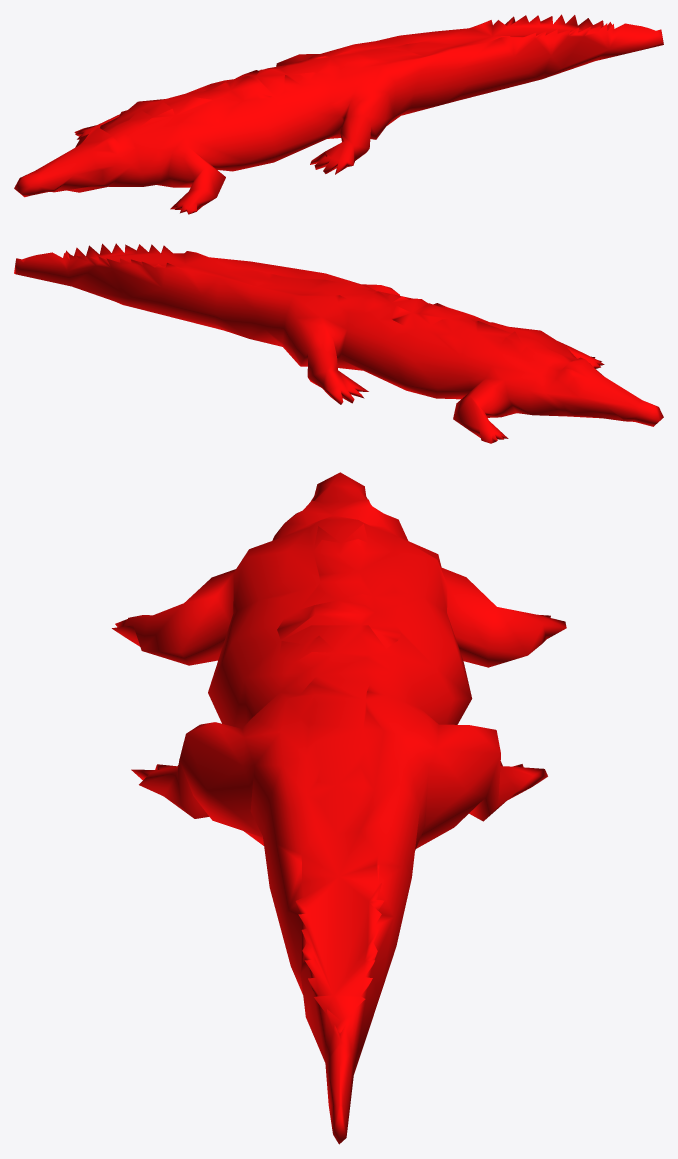
File: crocodile.glb
3 renders of one model, top to bottom at view 1: azimuth 30°, elevation 25°; view 2: azimuth 150°, elevation 25°; view 3: azimuth 270°, elevation 25°, orthographic. The views are drawn at different scales.
Visible parts, largest first — view 1: crocodile; view 2: crocodile; view 3: crocodile.
Boxes of the visible parts, x1,y1,x2,y2 form: crocodile: [14, 14, 663, 214]; crocodile: [14, 243, 663, 443]; crocodile: [112, 472, 566, 1144].
Bounding box in the file's own units: 234 × 23.88 × 71.28.
